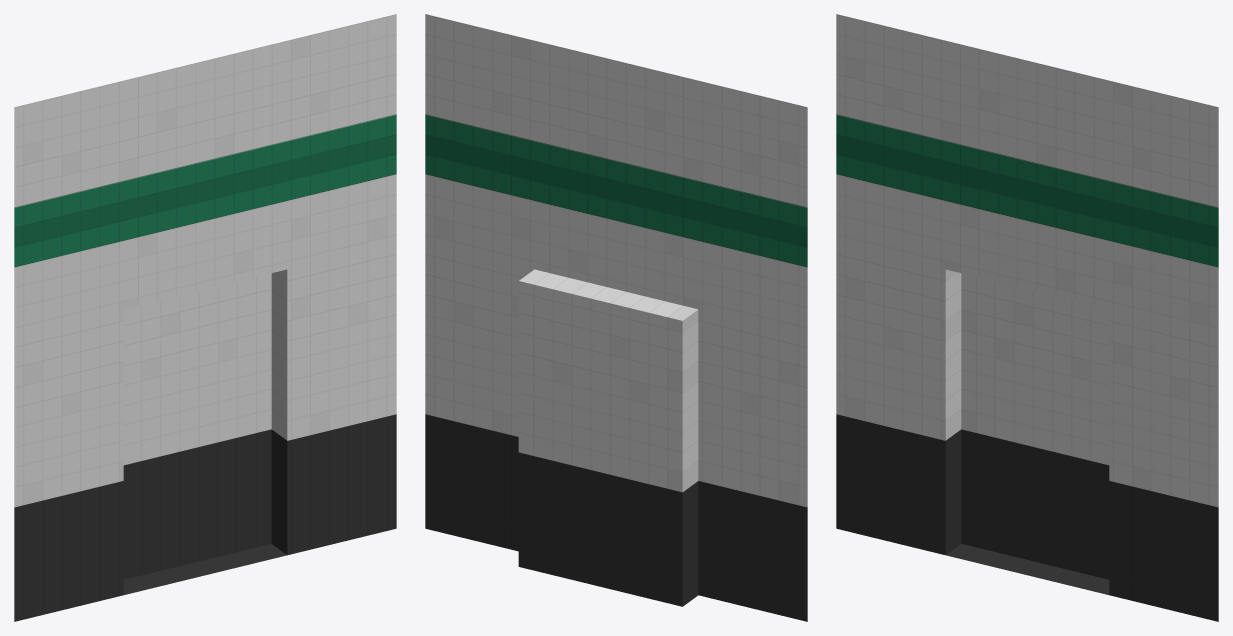
File: SM_Train_Subway_Station_Wall_Track_02.fbx
3 renders of one model, left to right at view 1: azimuth 30°, elevation 25°; view 2: azimuth 150°, elevation 25°; view 3: azimuth 330°, elevation 25°, orthographic.
Visible parts, largest first — view 1: SM_Train_Subway_Station_Wall_Track_02; view 2: SM_Train_Subway_Station_Wall_Track_02; view 3: SM_Train_Subway_Station_Wall_Track_02.
Part boxes in pixels (x1,y1,x2,y2): SM_Train_Subway_Station_Wall_Track_02: (14, 14, 396, 621); SM_Train_Subway_Station_Wall_Track_02: (425, 14, 807, 621); SM_Train_Subway_Station_Wall_Track_02: (836, 14, 1218, 621).
Bounding box in the file's own units: 350 × 450 × 25.
